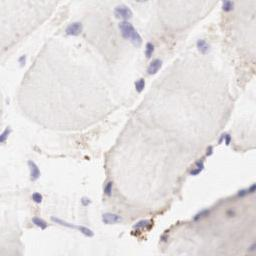nucleus: (51, 217, 93, 236), (118, 22, 143, 48), (27, 160, 41, 183), (146, 58, 163, 76), (112, 6, 135, 19), (196, 39, 213, 54), (65, 22, 83, 35), (102, 212, 121, 224), (32, 216, 48, 230), (131, 217, 151, 228), (1, 127, 12, 144), (134, 77, 146, 92), (145, 43, 154, 59), (31, 191, 43, 203), (104, 181, 113, 196), (17, 56, 27, 69), (222, 1, 234, 11), (195, 159, 206, 168), (218, 131, 225, 145), (189, 169, 203, 176), (225, 134, 231, 146), (249, 183, 256, 193), (207, 145, 213, 156), (83, 198, 90, 204), (240, 189, 246, 195)
positive_cell: (131, 217, 159, 243)
